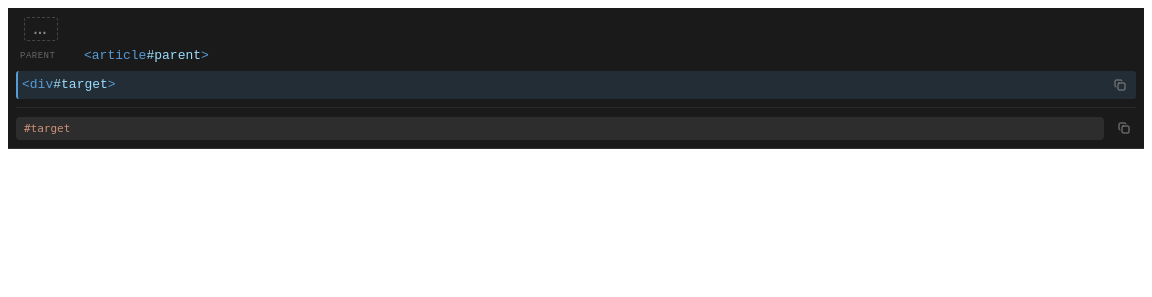
it: ElementHierarchyNav component › ancestor ellipsis › opens ancestor chooser when clicking ellipsis
The width and height of the screenshot is (1152, 297).
Click the button named "omitted ancestor": {"x": 41, "y": 29} [24,17,58,41]
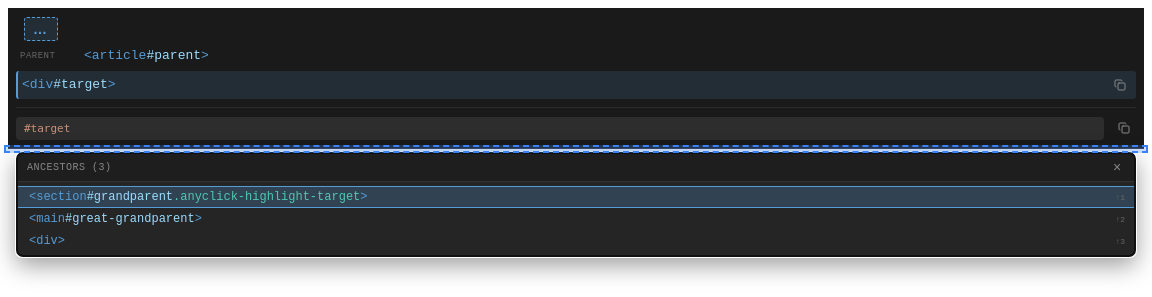
Now the list is shown, box [16,152,1136,257]
